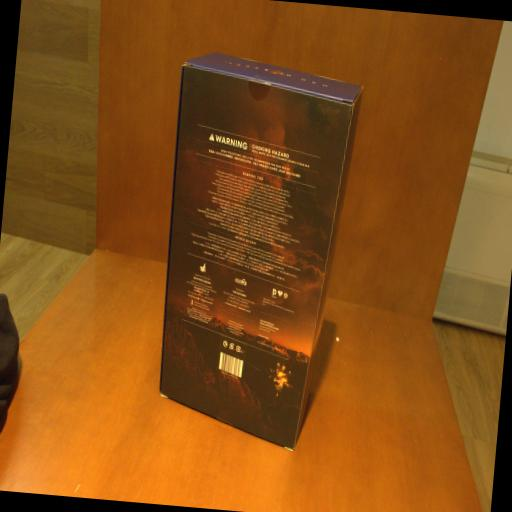superman: (148, 49, 368, 453)
